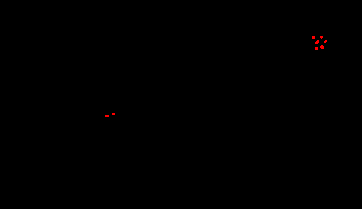Target: (315, 40, 319, 44), (320, 45, 324, 49), (312, 36, 315, 39), (320, 36, 323, 39), (324, 40, 327, 43), (315, 47, 318, 50), (105, 115, 109, 117), (112, 113, 115, 115)
